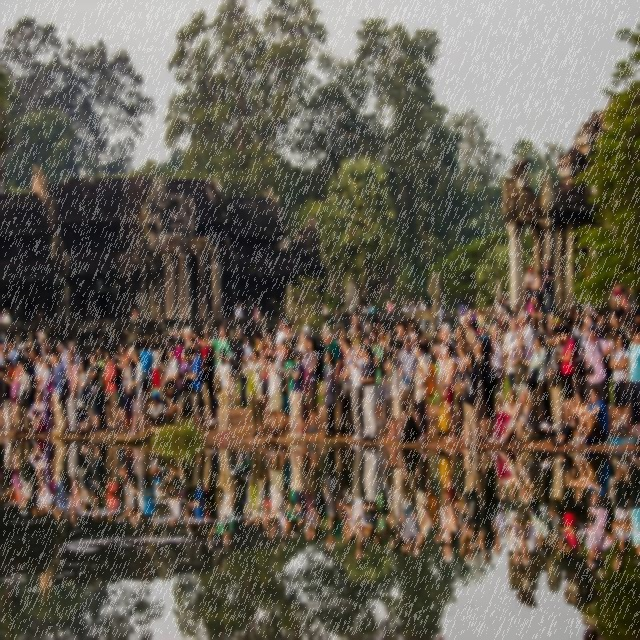pessoa: (238, 448, 640, 573), (2, 440, 158, 522), (158, 450, 213, 535), (171, 345, 202, 437), (430, 322, 455, 436), (584, 322, 614, 416), (203, 324, 230, 426), (210, 448, 237, 550), (568, 386, 610, 448), (397, 336, 422, 440), (474, 321, 496, 436), (496, 386, 536, 448), (262, 346, 288, 438), (568, 386, 606, 448), (526, 328, 548, 434), (554, 324, 576, 429), (549, 389, 588, 447), (456, 349, 479, 447), (609, 330, 630, 436), (241, 350, 265, 438), (114, 346, 138, 434), (344, 344, 365, 441), (358, 343, 378, 442), (488, 387, 521, 445), (412, 340, 430, 446), (322, 329, 340, 434), (102, 348, 124, 433), (546, 328, 564, 431), (214, 347, 234, 439), (440, 341, 458, 443), (337, 337, 355, 439), (452, 340, 469, 444), (369, 328, 386, 429), (625, 324, 640, 436), (188, 336, 206, 426), (258, 336, 274, 432), (511, 330, 532, 402), (288, 350, 305, 438), (128, 350, 145, 438), (490, 323, 504, 428), (12, 359, 31, 436), (390, 338, 404, 442), (502, 313, 521, 389), (85, 350, 102, 434), (474, 338, 487, 444), (306, 337, 320, 434), (416, 330, 431, 420), (321, 348, 336, 438), (539, 323, 552, 423), (74, 358, 90, 438), (284, 348, 298, 438), (50, 350, 64, 437), (568, 305, 582, 391), (65, 350, 79, 436), (90, 348, 106, 423), (384, 348, 397, 440), (198, 331, 211, 420), (140, 338, 154, 420), (280, 337, 292, 432), (205, 340, 218, 426), (40, 358, 54, 436), (12, 358, 26, 434), (239, 336, 253, 409), (158, 334, 173, 401), (0, 364, 14, 435), (27, 389, 47, 436), (376, 324, 389, 396), (145, 392, 171, 428), (78, 355, 90, 433), (516, 310, 534, 360), (338, 328, 348, 416), (165, 380, 185, 424), (454, 323, 470, 376), (162, 344, 178, 396), (605, 326, 615, 408), (540, 260, 554, 318), (228, 344, 240, 408), (59, 356, 69, 432), (461, 314, 477, 356), (352, 311, 370, 348), (116, 344, 126, 410), (27, 347, 37, 411), (610, 309, 626, 349), (49, 354, 57, 432), (34, 349, 46, 399), (592, 307, 608, 344), (625, 286, 638, 330), (151, 342, 161, 399), (531, 295, 546, 332), (586, 313, 604, 343), (276, 316, 288, 361), (498, 296, 512, 334), (618, 306, 632, 342), (550, 312, 562, 353), (178, 348, 189, 392), (250, 330, 264, 363), (524, 266, 534, 308), (234, 300, 244, 340), (523, 270, 533, 310), (3, 358, 16, 387), (612, 275, 622, 311), (278, 321, 292, 346), (492, 298, 504, 327), (369, 317, 381, 346), (546, 311, 554, 354), (434, 323, 444, 357), (8, 338, 20, 366), (140, 336, 154, 360), (57, 342, 69, 370), (68, 341, 80, 368), (418, 297, 426, 337), (532, 270, 542, 302), (14, 342, 26, 368), (564, 317, 576, 342), (618, 288, 628, 316), (302, 335, 310, 370), (40, 333, 51, 357), (518, 306, 528, 331), (476, 308, 486, 332), (330, 322, 342, 342), (174, 338, 184, 362), (458, 299, 467, 325), (59, 338, 69, 361), (471, 320, 482, 340), (183, 326, 192, 350), (362, 304, 369, 334), (348, 326, 356, 352), (34, 341, 46, 358), (582, 310, 592, 330), (298, 344, 307, 366), (580, 260, 590, 279), (254, 304, 260, 334), (322, 302, 328, 332), (438, 295, 444, 325), (393, 320, 402, 340), (468, 310, 477, 328), (578, 324, 586, 344), (398, 322, 408, 338), (268, 332, 276, 352), (514, 304, 520, 330), (0, 344, 7, 366), (582, 301, 594, 313), (22, 339, 30, 356), (2, 308, 11, 323), (131, 308, 140, 323), (169, 327, 178, 341), (385, 298, 394, 312), (229, 325, 235, 346), (409, 332, 417, 346), (412, 322, 420, 335), (330, 332, 340, 342), (191, 330, 198, 344), (36, 310, 44, 322), (408, 323, 416, 335), (124, 418, 132, 430), (598, 312, 604, 327), (301, 324, 310, 334), (402, 298, 408, 312), (407, 300, 414, 312), (618, 314, 624, 328), (438, 338, 444, 352), (172, 334, 178, 348), (155, 314, 161, 327), (290, 337, 296, 350), (262, 334, 268, 346), (196, 344, 203, 354), (43, 346, 50, 356), (368, 303, 374, 313), (0, 308, 5, 320), (288, 332, 296, 339), (112, 348, 116, 362), (15, 337, 22, 345), (126, 347, 130, 360), (523, 296, 527, 308), (6, 342, 10, 354), (160, 313, 164, 324), (178, 329, 182, 339), (506, 293, 510, 303), (635, 315, 639, 324), (296, 338, 300, 346), (334, 308, 338, 314), (400, 337, 403, 344), (0, 339, 4, 344), (74, 353, 76, 363), (412, 300, 415, 306), (108, 346, 112, 348)
